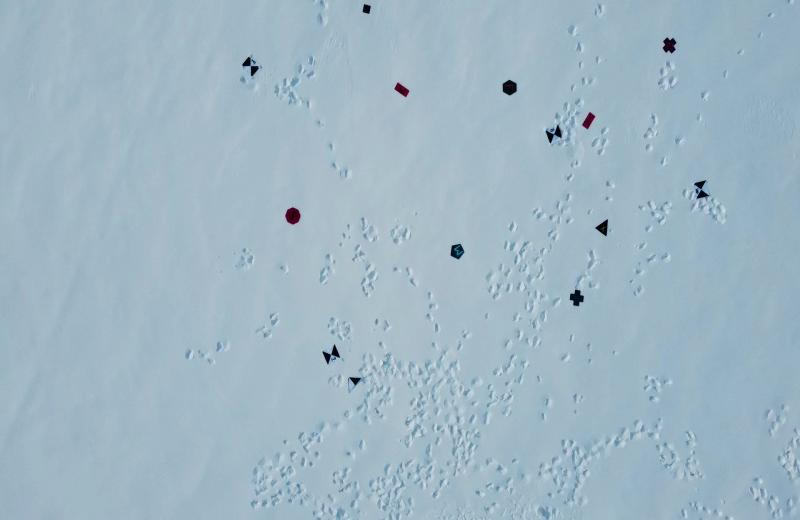Cross: (569, 288, 584, 307), (663, 36, 676, 54)
Hexagon: (502, 78, 518, 96)
Octagon: (284, 205, 301, 225)
Pentagon: (450, 242, 466, 260)
Rectangle: (582, 109, 597, 129), (393, 82, 410, 98)
Square: (362, 3, 372, 15)
Triangle: (594, 218, 610, 236)
